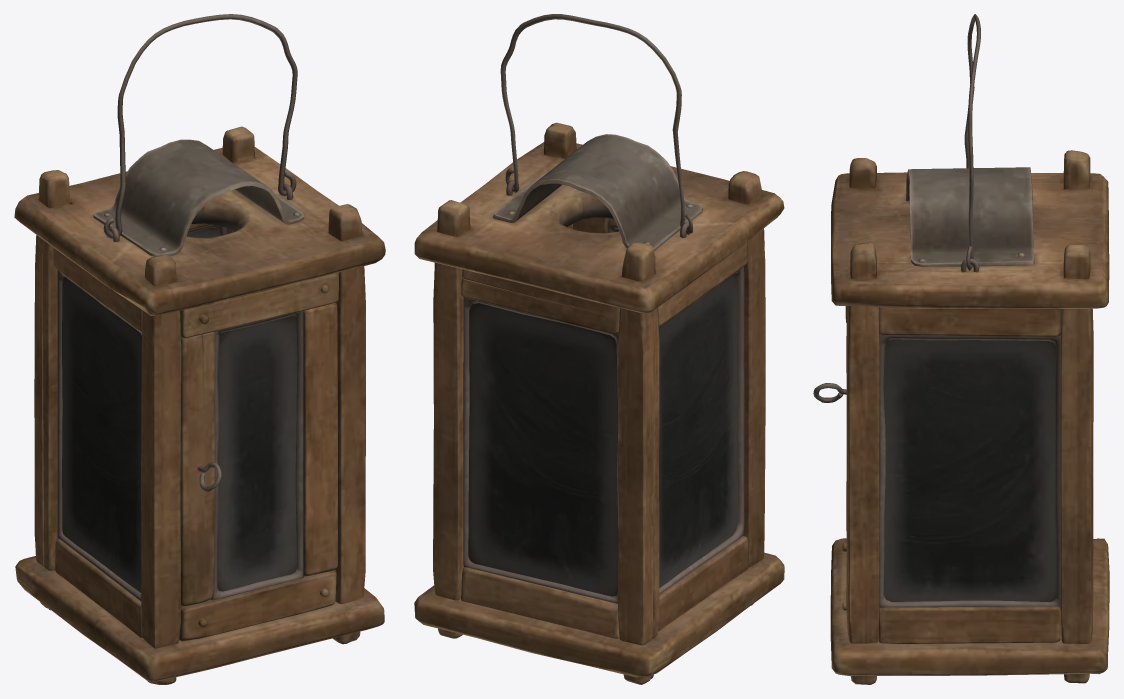
Rendered from wooden_lantern_01.glb.
3 views of the same model, side by side, from view 1: azimuth 30°, elevation 25°; view 2: azimuth 150°, elevation 25°; view 3: azimuth 270°, elevation 25° (orthographic).
Parts seen in each view (by area): view 1: wooden_lantern_01, wooden_lantern_01_door, wooden_lantern_01_handle; view 2: wooden_lantern_01, wooden_lantern_01_handle, wooden_lantern_01_door; view 3: wooden_lantern_01, wooden_lantern_01_handle, wooden_lantern_01_door.
Boxes of the visible parts, x1=… form: wooden_lantern_01: x1=14, y1=126, x2=385, y2=684; wooden_lantern_01_door: x1=179, y1=272, x2=339, y2=641; wooden_lantern_01_handle: x1=103, y1=14, x2=297, y2=238; wooden_lantern_01: x1=414, y1=122, x2=784, y2=684; wooden_lantern_01_handle: x1=500, y1=14, x2=692, y2=234; wooden_lantern_01_door: x1=573, y1=217, x2=618, y2=233; wooden_lantern_01: x1=830, y1=150, x2=1109, y2=684; wooden_lantern_01_handle: x1=964, y1=14, x2=980, y2=270; wooden_lantern_01_door: x1=813, y1=306, x2=847, y2=610.
Bounding box in the file's own units: 0.2211 × 0.5301 × 0.2347.
2 materials, 2 textured.
